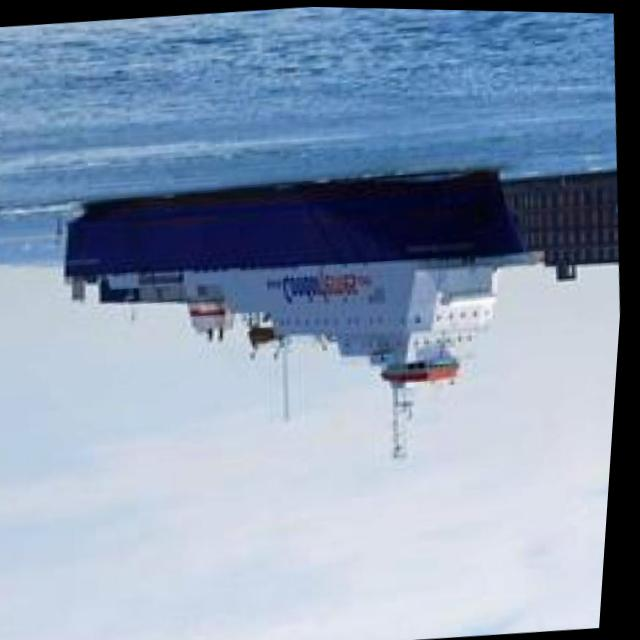ship2: (69, 163, 543, 457)
